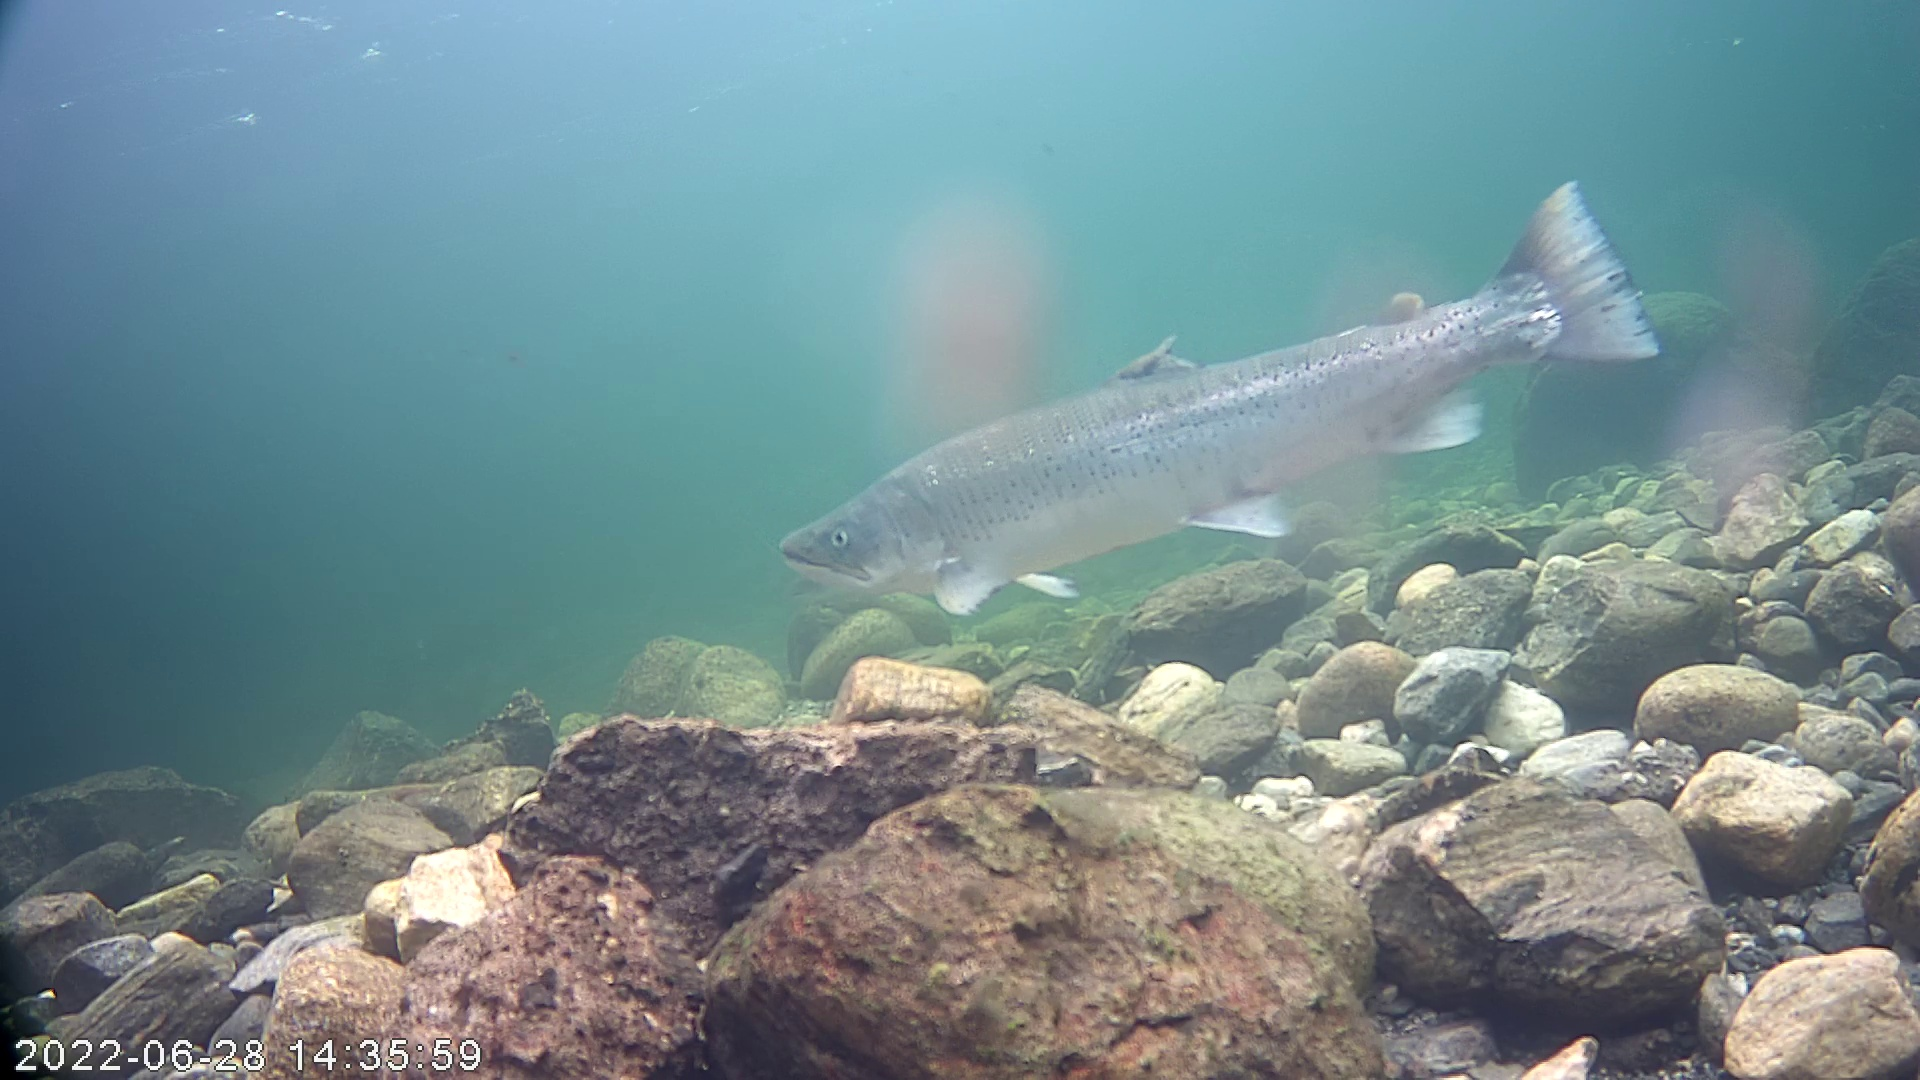salmon: (770, 161, 1675, 640)
